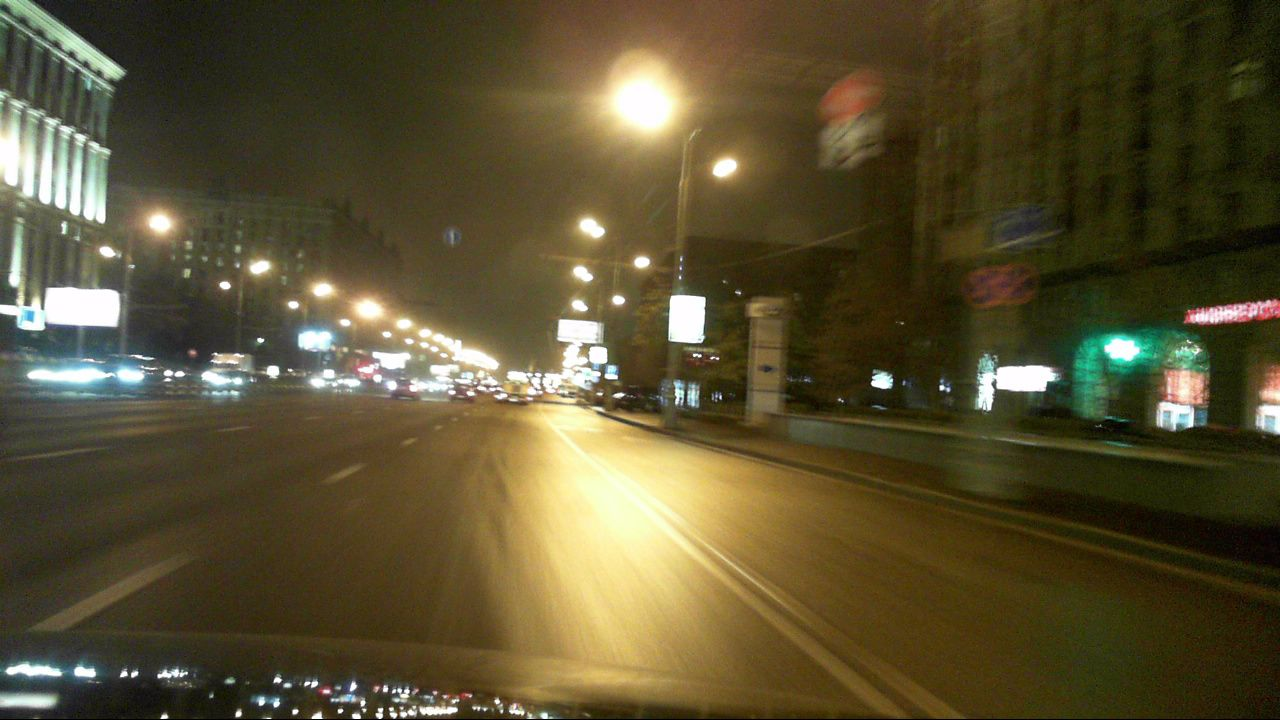No Parking: (996, 264, 1037, 303)
